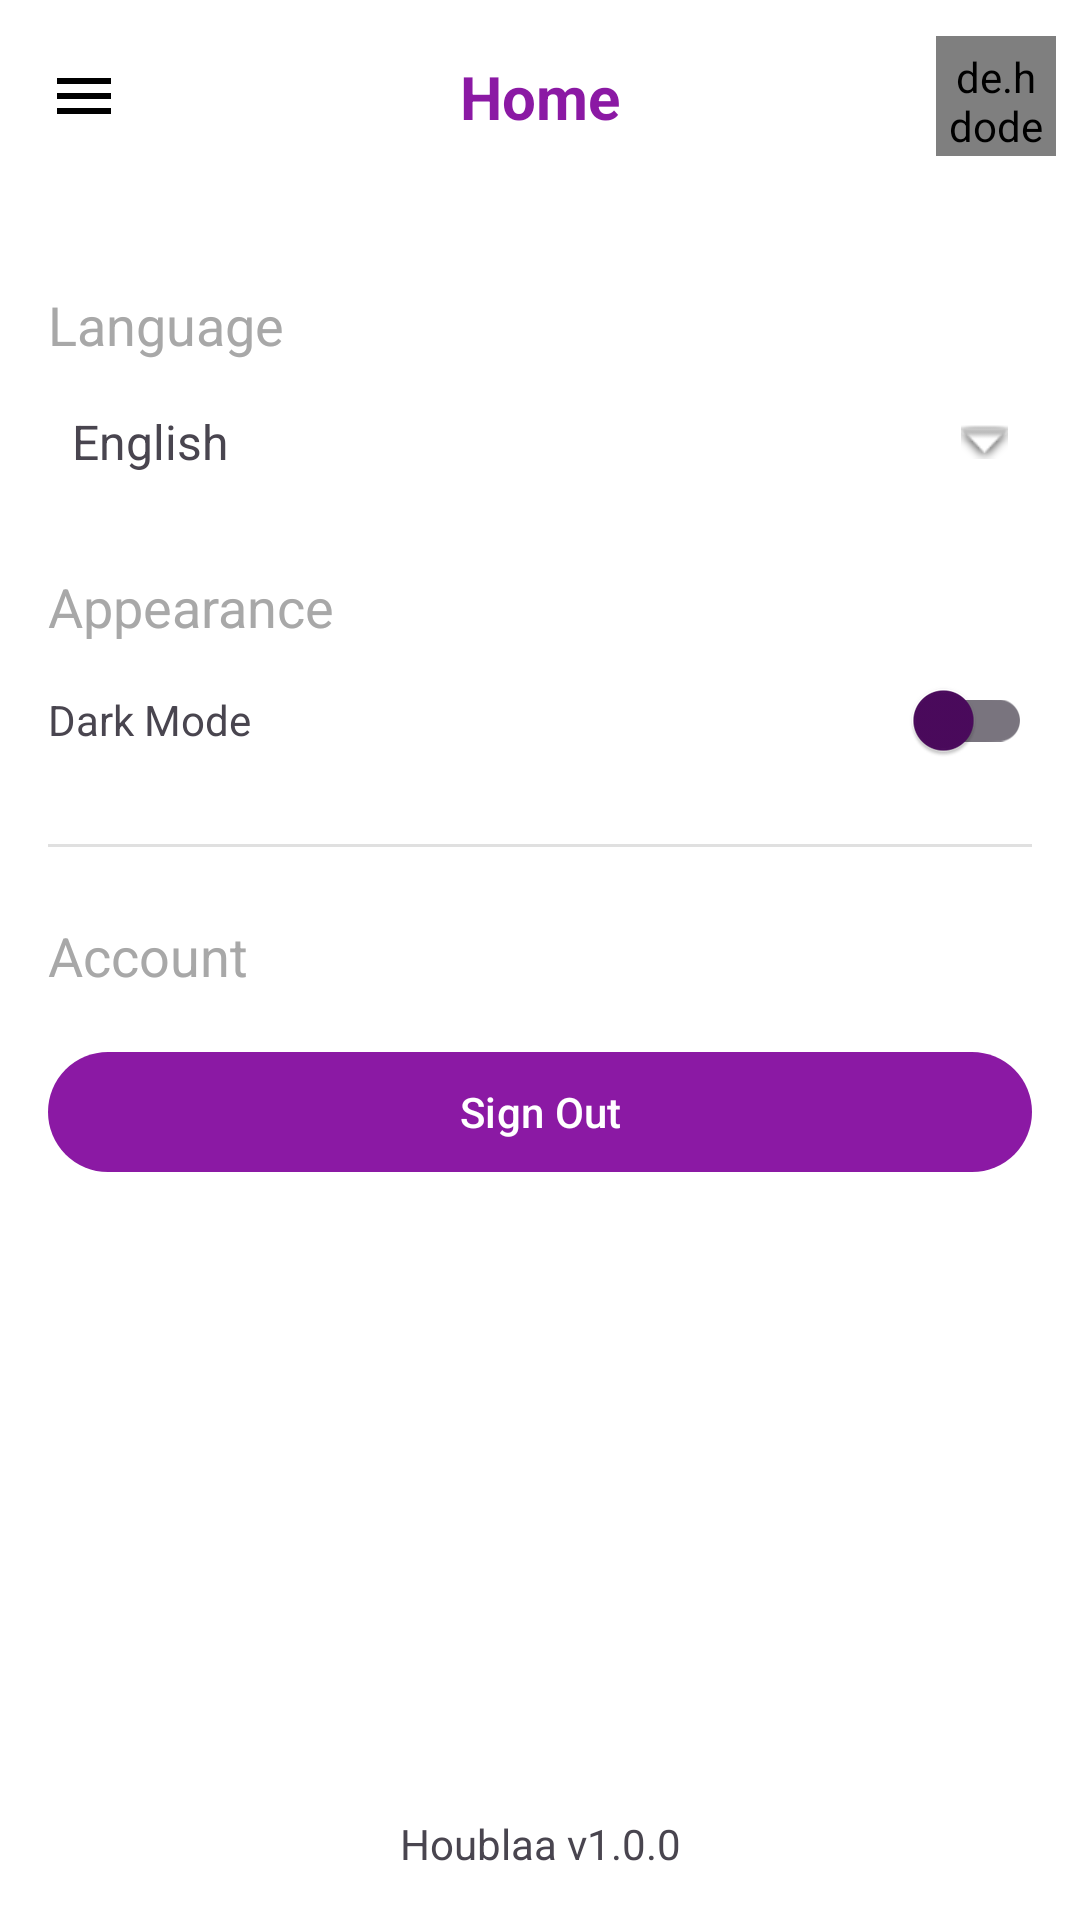

Icon click points for this 1080 × 1920 phone screenshot, format (x,y):
arrow down float: (984,442)
Menu: (84,96)
